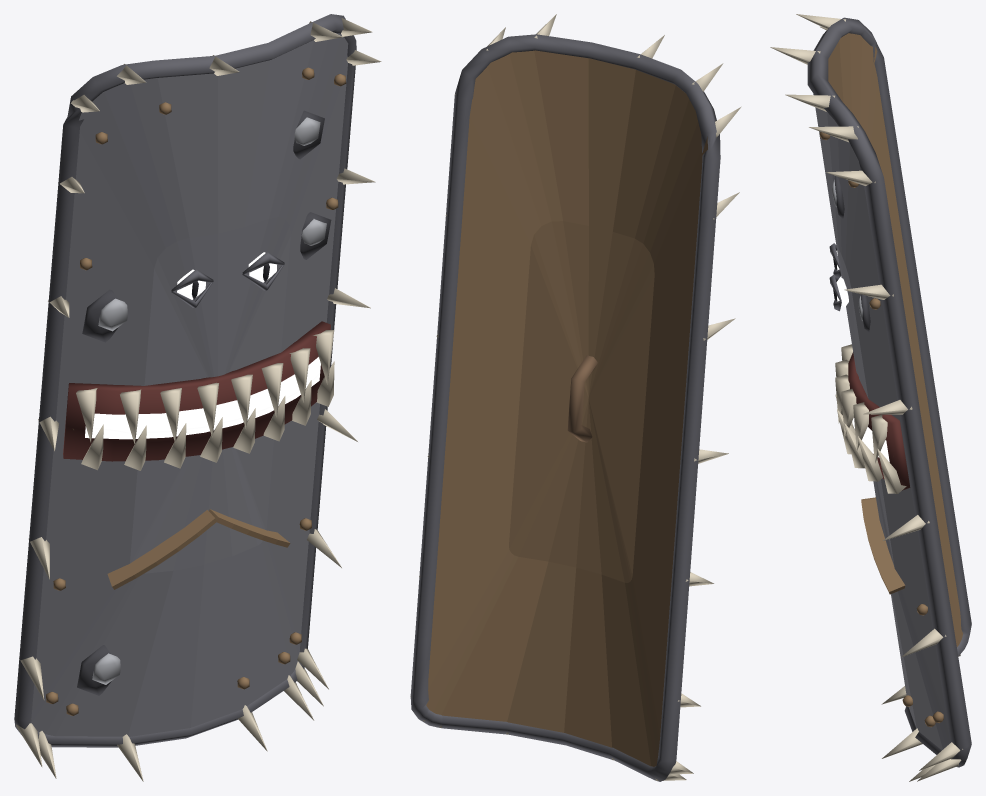
The model's file is shield-shield-biter.glb.
The picture shows the model from 3 angles, left to right: view 1: azimuth 30°, elevation 25°; view 2: azimuth 150°, elevation 25°; view 3: azimuth 270°, elevation 25°; orthographic projection. The views are drawn at different scales.
Visible parts, largest first — view 1: shield-shield-biter; view 2: shield-shield-biter; view 3: shield-shield-biter.
Boxes of the visible parts, bbox=[...] form: shield-shield-biter: bbox=[14, 14, 381, 781]; shield-shield-biter: bbox=[410, 14, 741, 781]; shield-shield-biter: bbox=[770, 14, 971, 781].
Size of the model in its own units: 0.9101 by 2.09 by 0.568.
